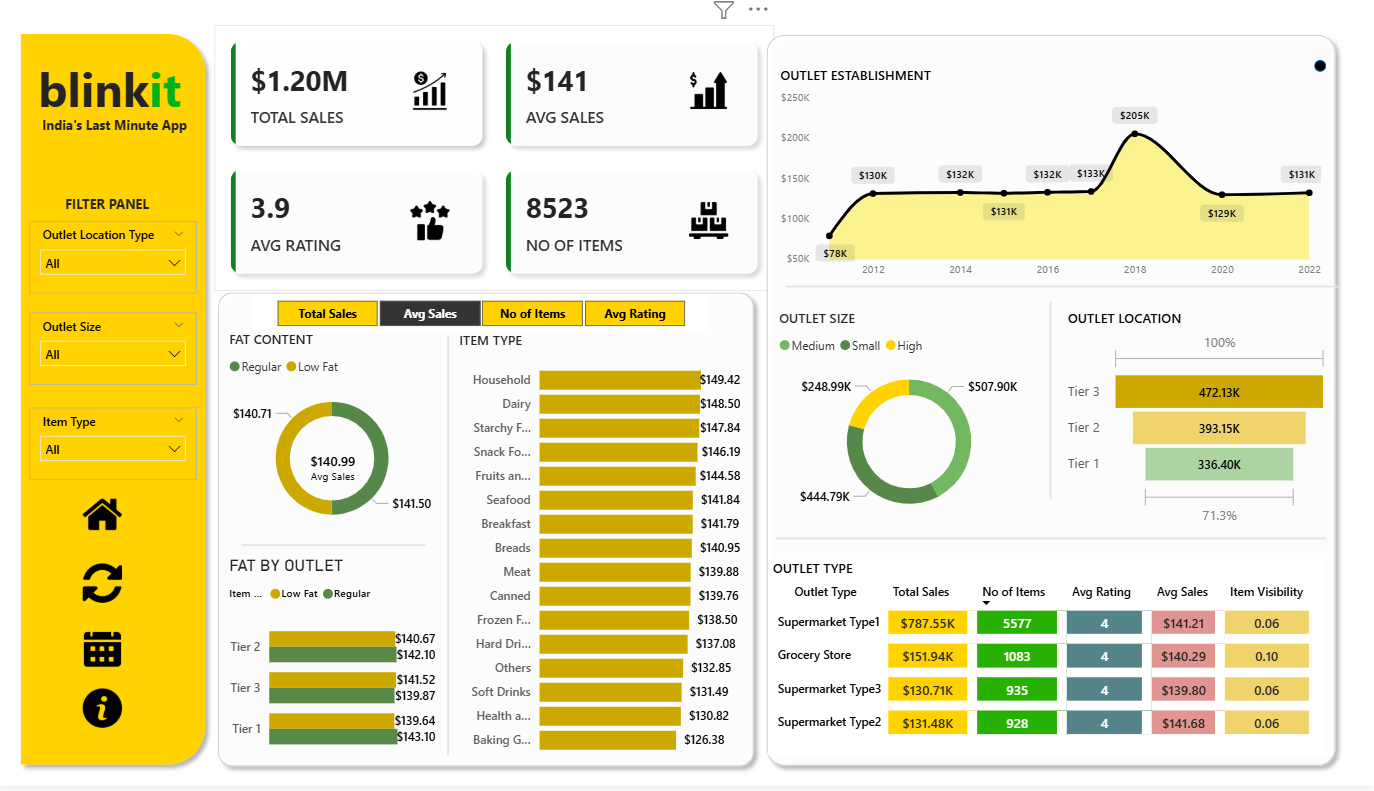

The dashboard page shown, as its layout file describes it:
{"tool":"powerbi","page":{"name":"Page 1","canvas":[1400,800],"ordinal":0},"visuals":[{"type":"shape","box":[13.5,25,205.8,761.5],"z":0},{"type":"textbox","box":[32.2,52.3,163.5,99.2],"z":1000},{"type":"textbox","box":[22.8,112.6,191.7,28.2],"z":2000},{"type":"cardVisual","fields":{"Data":["BlinkIT Grocery Data.Total Sales","BlinkIT Grocery Data.Avg Sales","BlinkIT Grocery Data.Avg Rating","BlinkIT Grocery Data.No of Items"]},"box":[219.8,25.5,570,270.8],"z":3000},{"type":"shape","box":[214.5,288.2,563,500],"z":4000},{"type":"donutChart","title":"FAT CONTENT","fields":{"Y":["BlinkIT Grocery Data.Avg Sales"],"Category":["BlinkIT Grocery Data.Item Fat Content"]},"box":[230.6,335.1,219.8,215.8],"z":5000},{"type":"slicer","fields":{"Values":["Metrics.Metrics"]},"box":[258.7,298.9,465.1,37.5],"z":6000},{"type":"cardVisual","fields":{"Data":["BlinkIT Grocery Data.Avg Sales"]},"box":[274.8,442.4,132.7,64.3],"z":7000},{"type":"clusteredBarChart","title":"FAT BY OUTLET","fields":{"Y":["BlinkIT Grocery Data.Avg Sales"],"Category":["BlinkIT Grocery Data.Outlet Location Type"],"Series":["BlinkIT Grocery Data.Item Fat Content"]},"box":[230.6,564.3,219.8,215.8],"z":8000},{"type":"shape","box":[247.6,548.2,187.1,12.9],"z":9000},{"type":"shape","box":[450.9,340.9,12.7,427.3],"z":10000},{"type":"barChart","title":"ITEM TYPE","fields":{"Y":["BlinkIT Grocery Data.Avg Sales"],"Category":["BlinkIT Grocery Data.Item Type"]},"box":[463.8,336.5,296.2,441],"z":11000},{"type":"shape","box":[773.5,26.8,596.5,761.4],"z":12000},{"type":"lineChart","title":"OUTLET ESTABLISHMENT","fields":{"Category":["BlinkIT Grocery Data.Outlet Establishment Year"],"Y":["BlinkIT Grocery Data.Total Sales"]},"box":[790.9,67,560.3,223.9],"z":13000},{"type":"shape","box":[803,285.5,561.7,10.7],"z":14000},{"type":"donutChart","title":"OUTLET SIZE","fields":{"Y":["BlinkIT Grocery Data.Total Sales"],"Category":["BlinkIT Grocery Data.Outlet Size"]},"box":[789.5,313.7,274.8,225.2],"z":15000},{"type":"shape","box":[1064.5,306.4,12.7,202.7],"z":16000},{"type":"funnel","title":"OUTLET LOCATION","fields":{"Y":["Sum(BlinkIT Grocery Data.Sales)"],"Category":["BlinkIT Grocery Data.Outlet Location Type"]},"box":[1083.1,313.7,274.8,225.2],"z":17000},{"type":"shape","box":[790.9,541.6,560.3,12.1],"z":18000},{"type":"pivotTable","title":"OUTLET TYPE","fields":{"Rows":["BlinkIT Grocery Data.Outlet Type"],"Values":["BlinkIT Grocery Data.Total Sales","BlinkIT Grocery Data.No of Items","BlinkIT Grocery Data.Avg Rating","BlinkIT Grocery Data.Avg Sales","Avg(BlinkIT Grocery Data.Item Visibility)"]},"box":[782.8,568.4,568.4,199.7],"z":19000},{"type":"slicer","fields":{"Values":["BlinkIT Grocery Data.Outlet Location Type"]},"box":[32.2,225.2,170.2,73.7],"z":20000},{"type":"slicer","fields":{"Values":["BlinkIT Grocery Data.Outlet Size"]},"box":[32.2,317.7,170.2,73.7],"z":21000},{"type":"slicer","fields":{"Values":["BlinkIT Grocery Data.Item Type"]},"box":[32.2,414.2,170.2,73.7],"z":22000},{"type":"textbox","box":[38.9,193,143.4,29.5],"z":23000},{"type":"image","box":[81.8,498.7,50,50],"z":24000},{"type":"image","box":[81.8,568.4,50,50],"z":25000},{"type":"image","box":[81.8,635.4,49.6,49.6],"z":26000},{"type":"image","box":[81.8,695.7,49.6,49.6],"z":27000},{"type":"shape","box":[1339.1,61.7,12.1,12.1],"z":28000},{"type":"image","box":[414.2,67,49.6,49.6],"z":29000},{"type":"image","box":[698.4,199.7,49.6,49.6],"z":30000},{"type":"image","box":[414.2,199.7,49.6,49.6],"z":31000},{"type":"image","box":[698.4,67,49.6,49.6],"z":32000}]}

Visuals, with their boxes in screenshot pixels (x1, y1, x2, y2), scaled from the page's 1400x800 canvas onto the 1374x791 screenshot:
shape: [left=13, top=25, right=215, bottom=778]
textbox: [left=32, top=52, right=192, bottom=150]
textbox: [left=22, top=111, right=211, bottom=139]
cardVisual - BlinkIT Grocery Data.Total Sales x BlinkIT Grocery Data.Avg Sales: [left=216, top=25, right=775, bottom=293]
shape: [left=211, top=285, right=763, bottom=779]
"FAT CONTENT" donutChart: [left=226, top=331, right=442, bottom=545]
slicer - Metrics.Metrics: [left=254, top=296, right=710, bottom=333]
cardVisual - BlinkIT Grocery Data.Avg Sales: [left=270, top=437, right=400, bottom=501]
"FAT BY OUTLET" clusteredBarChart: [left=226, top=558, right=442, bottom=771]
shape: [left=243, top=542, right=427, bottom=555]
shape: [left=443, top=337, right=455, bottom=760]
"ITEM TYPE" barChart: [left=455, top=333, right=746, bottom=769]
shape: [left=759, top=26, right=1345, bottom=779]
"OUTLET ESTABLISHMENT" lineChart: [left=776, top=66, right=1326, bottom=288]
shape: [left=788, top=282, right=1339, bottom=293]
"OUTLET SIZE" donutChart: [left=775, top=310, right=1045, bottom=533]
shape: [left=1045, top=303, right=1057, bottom=503]
"OUTLET LOCATION" funnel: [left=1063, top=310, right=1333, bottom=533]
shape: [left=776, top=536, right=1326, bottom=547]
"OUTLET TYPE" pivotTable: [left=768, top=562, right=1326, bottom=759]
slicer - BlinkIT Grocery Data.Outlet Location Type: [left=32, top=223, right=199, bottom=296]
slicer - BlinkIT Grocery Data.Outlet Size: [left=32, top=314, right=199, bottom=387]
slicer - BlinkIT Grocery Data.Item Type: [left=32, top=410, right=199, bottom=482]
textbox: [left=38, top=191, right=179, bottom=220]
image: [left=80, top=493, right=129, bottom=543]
image: [left=80, top=562, right=129, bottom=611]
image: [left=80, top=628, right=129, bottom=677]
image: [left=80, top=688, right=129, bottom=737]
shape: [left=1314, top=61, right=1326, bottom=73]
image: [left=407, top=66, right=455, bottom=115]
image: [left=685, top=197, right=734, bottom=246]
image: [left=407, top=197, right=455, bottom=246]
image: [left=685, top=66, right=734, bottom=115]
